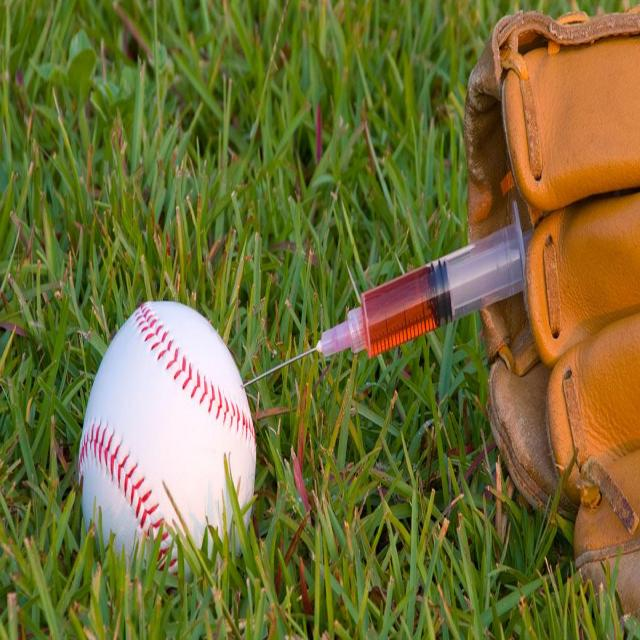baseball: (76, 297, 256, 571)
